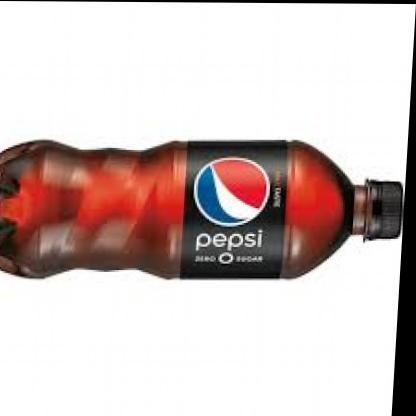trash: (0, 141, 352, 277)
